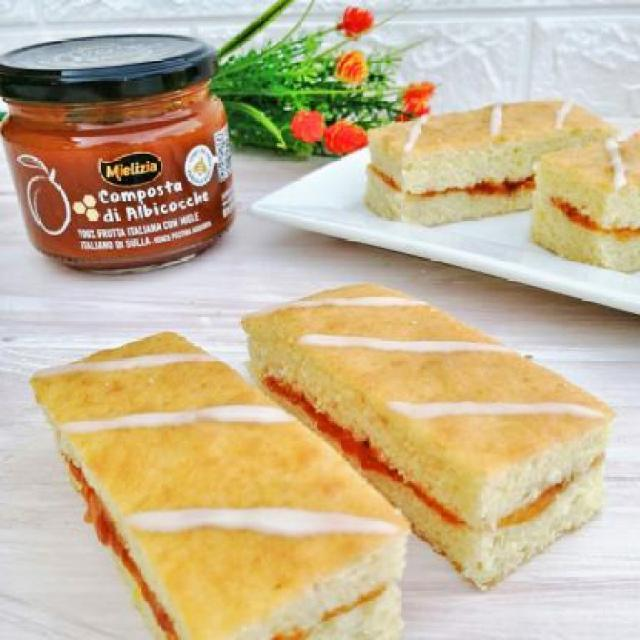Merendine packaged: (238, 282, 617, 595), (29, 332, 412, 640), (368, 98, 617, 234)
